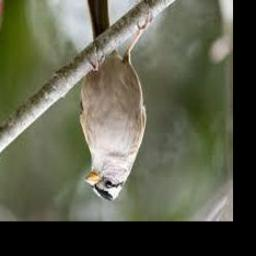Sparrow: (79, 0, 152, 201)
